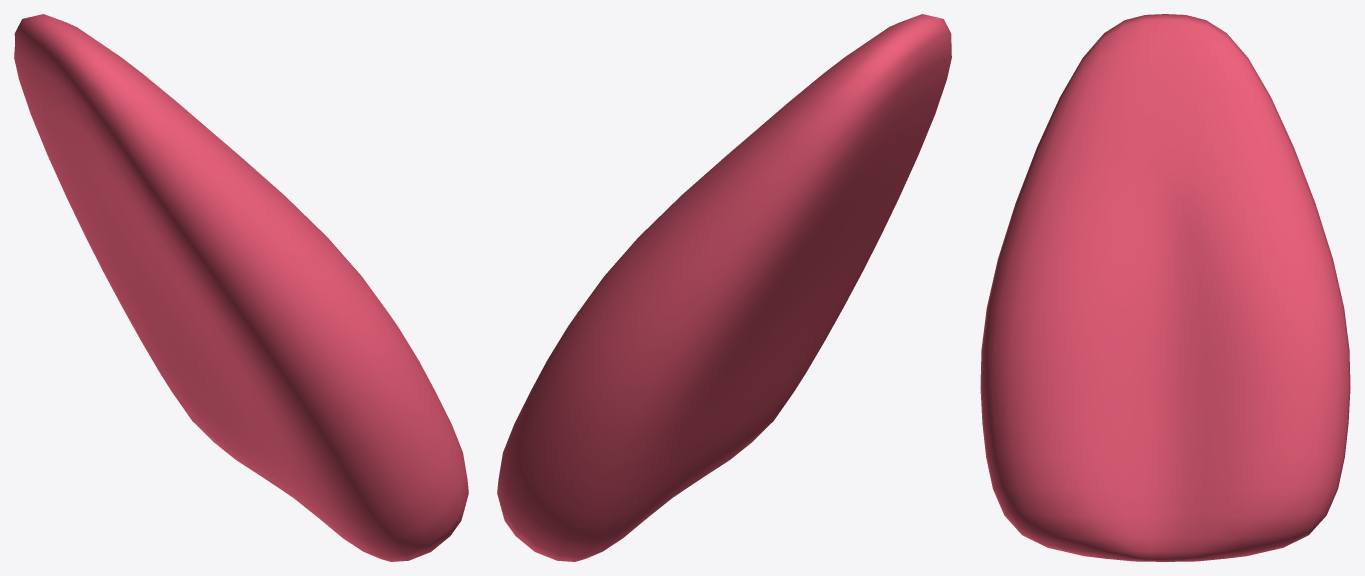
File: Tongue.fbx
3 renders of one model, left to right at view 1: azimuth 30°, elevation 25°; view 2: azimuth 150°, elevation 25°; view 3: azimuth 270°, elevation 25°, orthographic. The views are drawn at different scales.
Visible parts, largest first — view 1: Tongue; view 2: Tongue; view 3: Tongue.
Boxes of the visible parts, x1,y1,x2,y2 form: Tongue: (14,14,468,561); Tongue: (497,14,951,561); Tongue: (980,14,1350,561).
Size of the model in its own units: 3.41 by 5.03 by 3.91.
